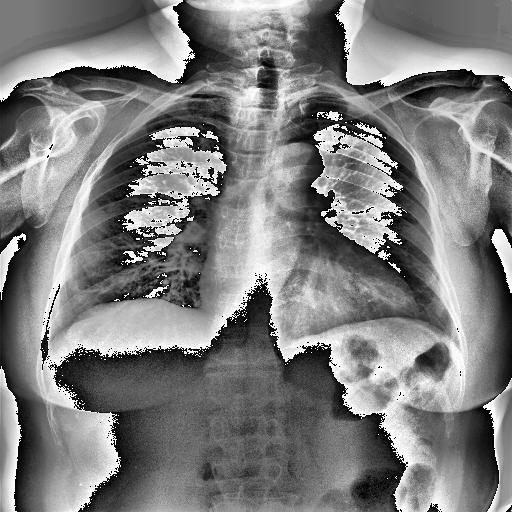0- Aortic enlargement: (269, 143, 325, 194), (262, 141, 324, 185), (266, 141, 326, 185)
3- Cardiomegaly: (200, 246, 418, 318), (196, 263, 419, 332), (195, 268, 422, 316)
